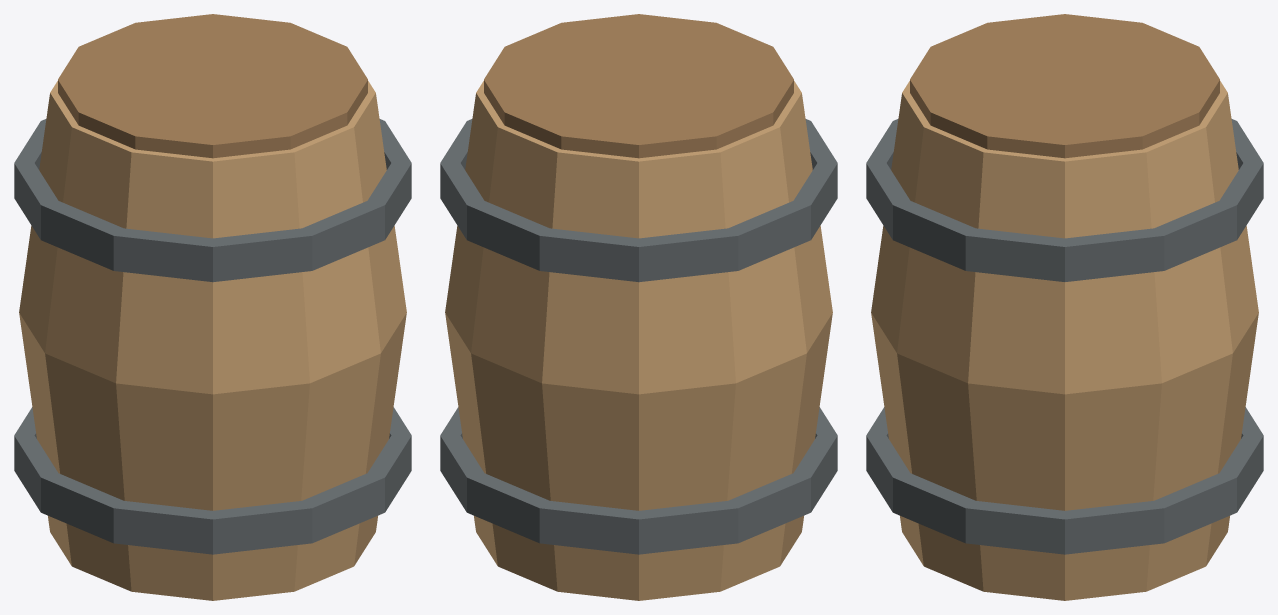
The model's file is water-barrel.glb.
3 renders of one model, left to right at view 1: azimuth 30°, elevation 25°; view 2: azimuth 150°, elevation 25°; view 3: azimuth 270°, elevation 25°, orthographic.
Visible parts, largest first — view 1: water-barrel; view 2: water-barrel; view 3: water-barrel.
Boxes of the visible parts, x1,y1,x2,y2 form: water-barrel: [14, 14, 411, 600]; water-barrel: [440, 14, 837, 600]; water-barrel: [866, 14, 1263, 600].
Size of the model in its own units: 0.82 by 1.03 by 0.82.
